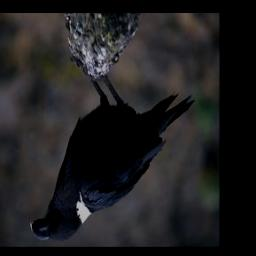Crow: (29, 53, 196, 242)
